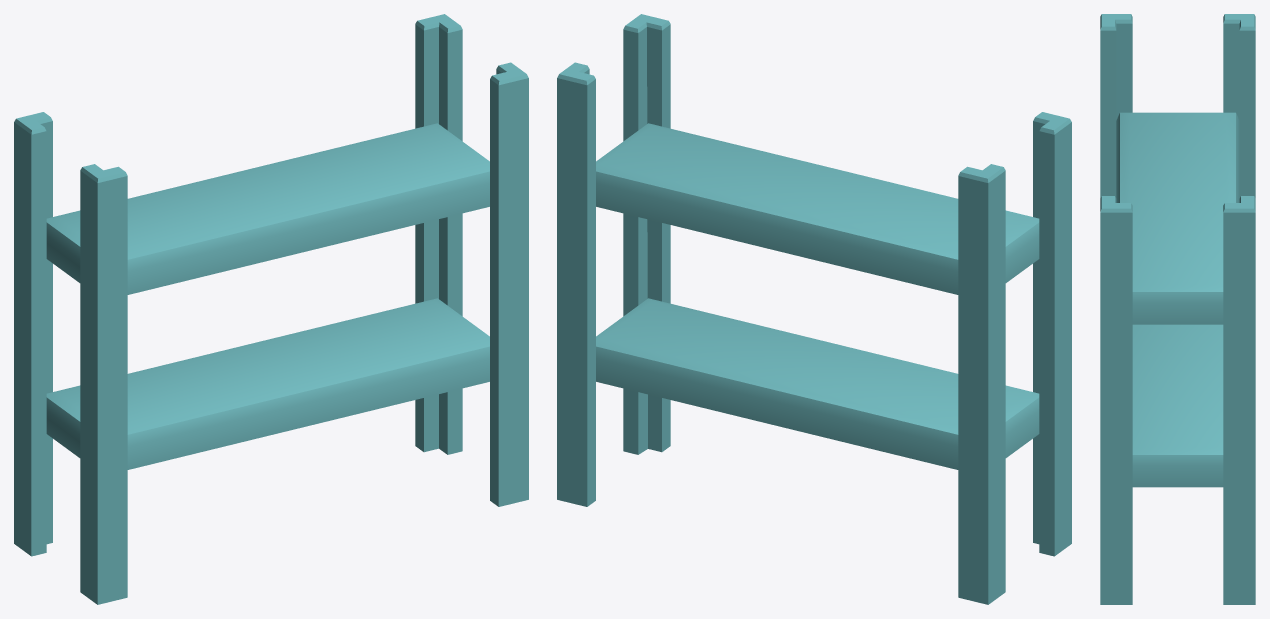
File: SM_Storage_Shelf_B.fbx
3 renders of one model, left to right at view 1: azimuth 30°, elevation 25°; view 2: azimuth 150°, elevation 25°; view 3: azimuth 270°, elevation 25°, orthographic. The views are drawn at different scales.
Visible parts, largest first — view 1: SM_Storage_Shelf_B; view 2: SM_Storage_Shelf_B; view 3: SM_Storage_Shelf_B.
Boxes of the visible parts, x1,y1,x2,y2 form: SM_Storage_Shelf_B: (14,14,528,604); SM_Storage_Shelf_B: (557,14,1071,604); SM_Storage_Shelf_B: (1100,14,1255,604).
Size of the model in its own units: 343 by 324 by 115.
